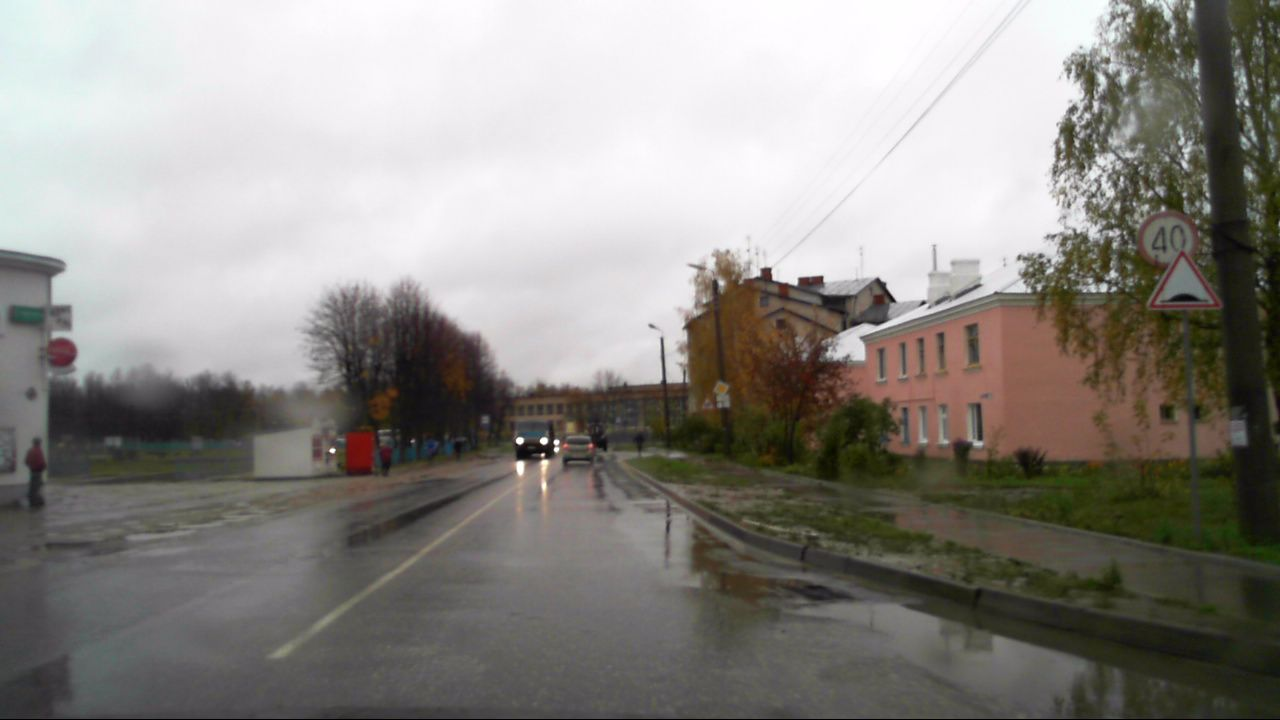speed_warning_40: (1137, 210, 1198, 270)
